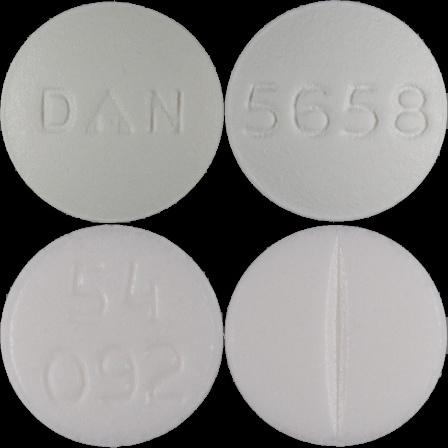54868-1110: (0, 0, 224, 224)
